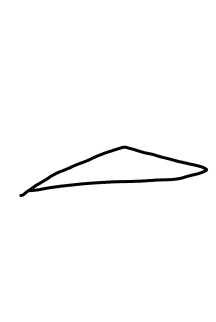Triangle: (15, 142, 211, 199)
